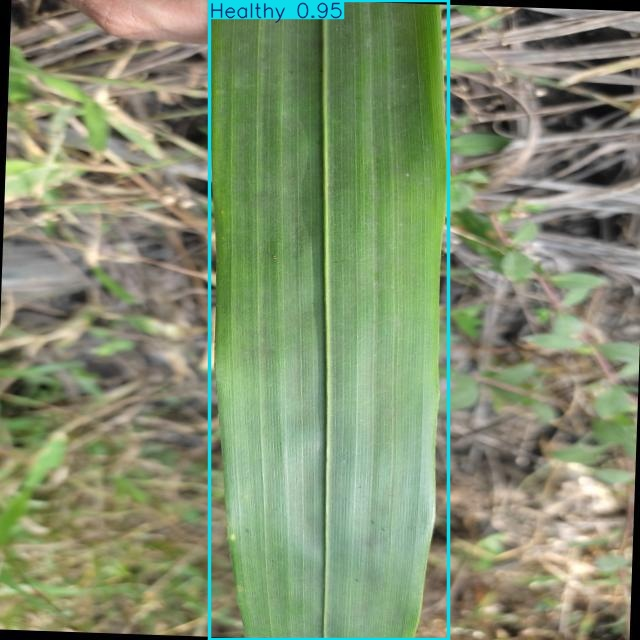Healthy: (209, 0, 448, 640)
